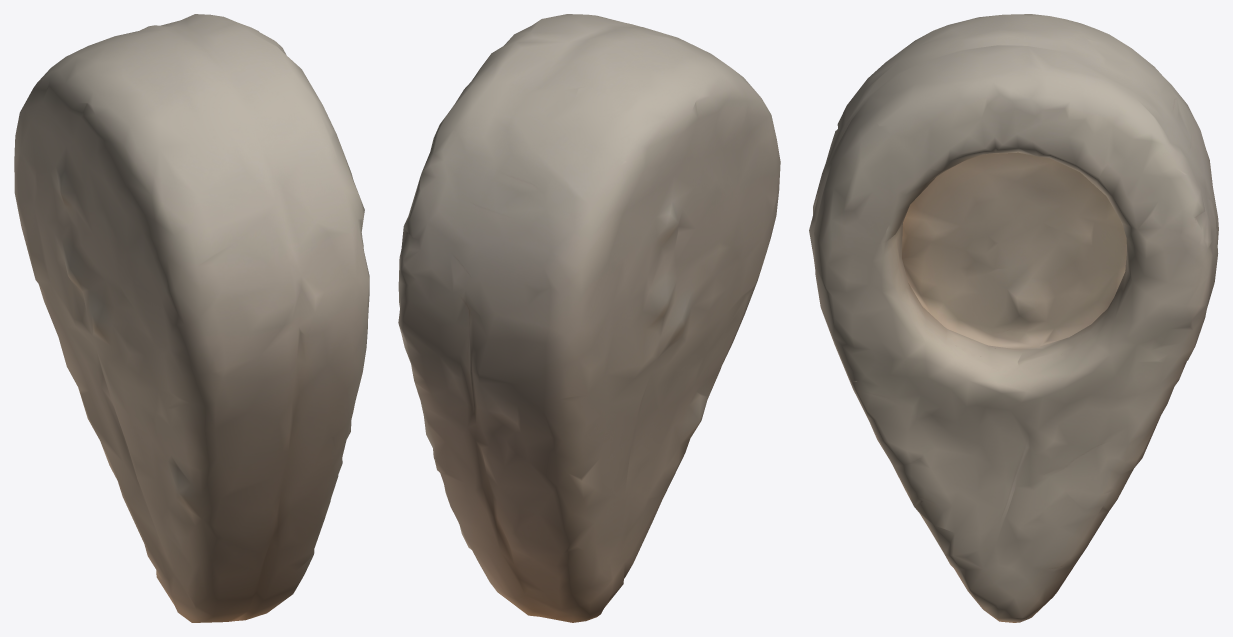
File: map_pin.glb
3 renders of one model, left to right at view 1: azimuth 30°, elevation 25°; view 2: azimuth 150°, elevation 25°; view 3: azimuth 270°, elevation 25°, orthographic. The views are drawn at different scales.
Visible parts, largest first — view 1: tripo_node_97d98965-29c8-4bb7-86e1-2840104cf99e; view 2: tripo_node_97d98965-29c8-4bb7-86e1-2840104cf99e; view 3: tripo_node_97d98965-29c8-4bb7-86e1-2840104cf99e.
Part boxes in pixels (box(x1,y1,x2,y2)): tripo_node_97d98965-29c8-4bb7-86e1-2840104cf99e: box(14, 14, 369, 622); tripo_node_97d98965-29c8-4bb7-86e1-2840104cf99e: box(398, 14, 780, 622); tripo_node_97d98965-29c8-4bb7-86e1-2840104cf99e: box(809, 14, 1218, 622).
Size of the model in its own units: 0.3931 by 1 by 0.6667.
1 material, 1 textured.
